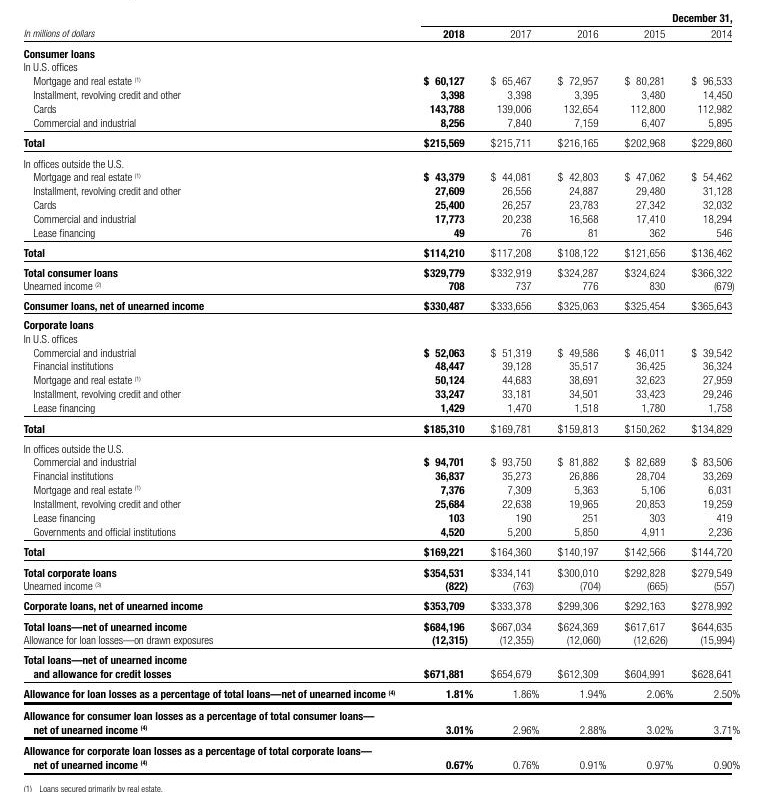table: (0, 0, 757, 792)
